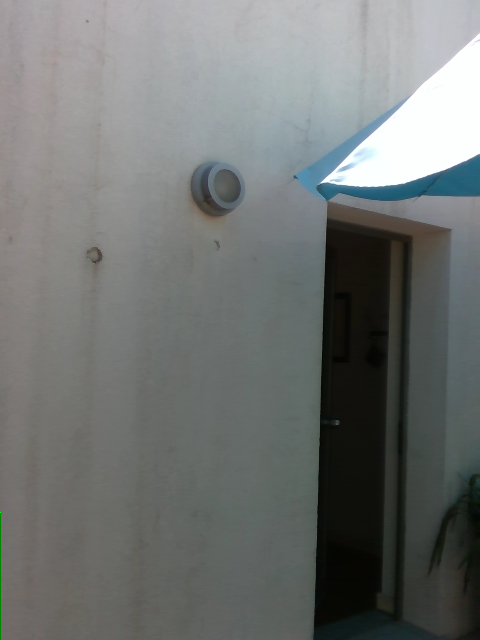open: (326, 200, 445, 633)
